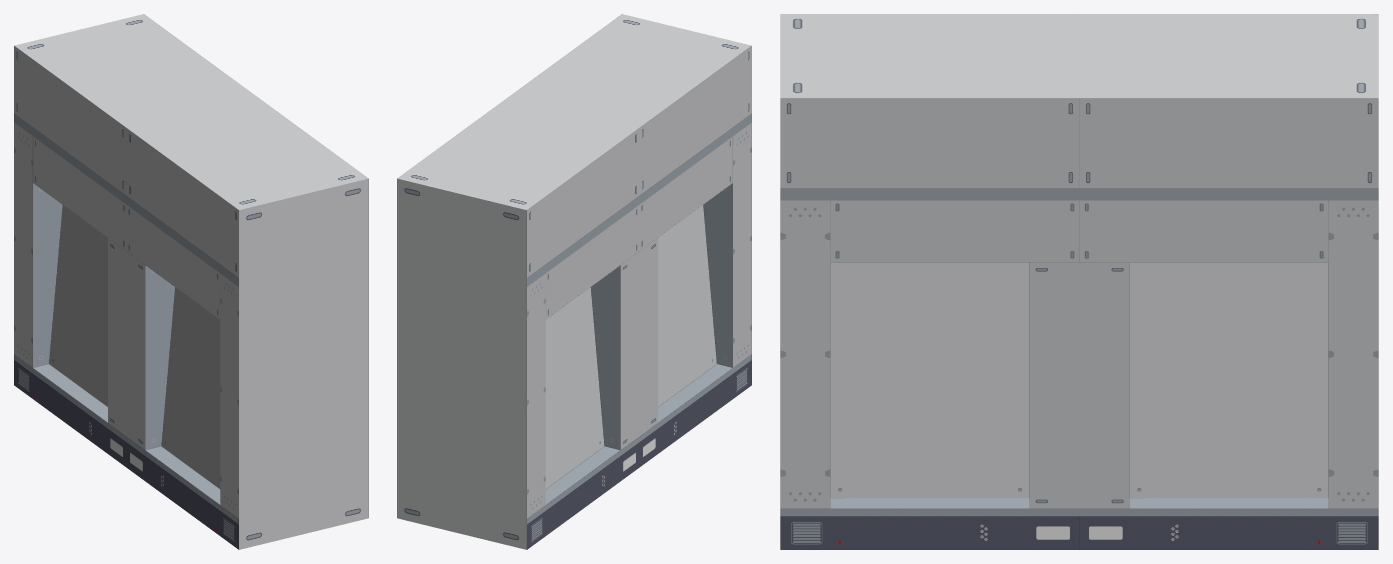
Rendered from Wall_Normal_Simple_04_B.FBX.
3 renders of one model, left to right at view 1: azimuth 30°, elevation 25°; view 2: azimuth 150°, elevation 25°; view 3: azimuth 270°, elevation 25°, orthographic. The views are drawn at different scales.
Parts seen in each view (by area): view 1: Wall_Normal_Simple_04_B; view 2: Wall_Normal_Simple_04_B; view 3: Wall_Normal_Simple_04_B.
Part boxes in pixels (bbox=[...]): Wall_Normal_Simple_04_B: bbox=[14, 14, 368, 549]; Wall_Normal_Simple_04_B: bbox=[397, 14, 751, 549]; Wall_Normal_Simple_04_B: bbox=[780, 14, 1378, 549].
Bounding box in the file's own units: 2 × 5 × 6.
